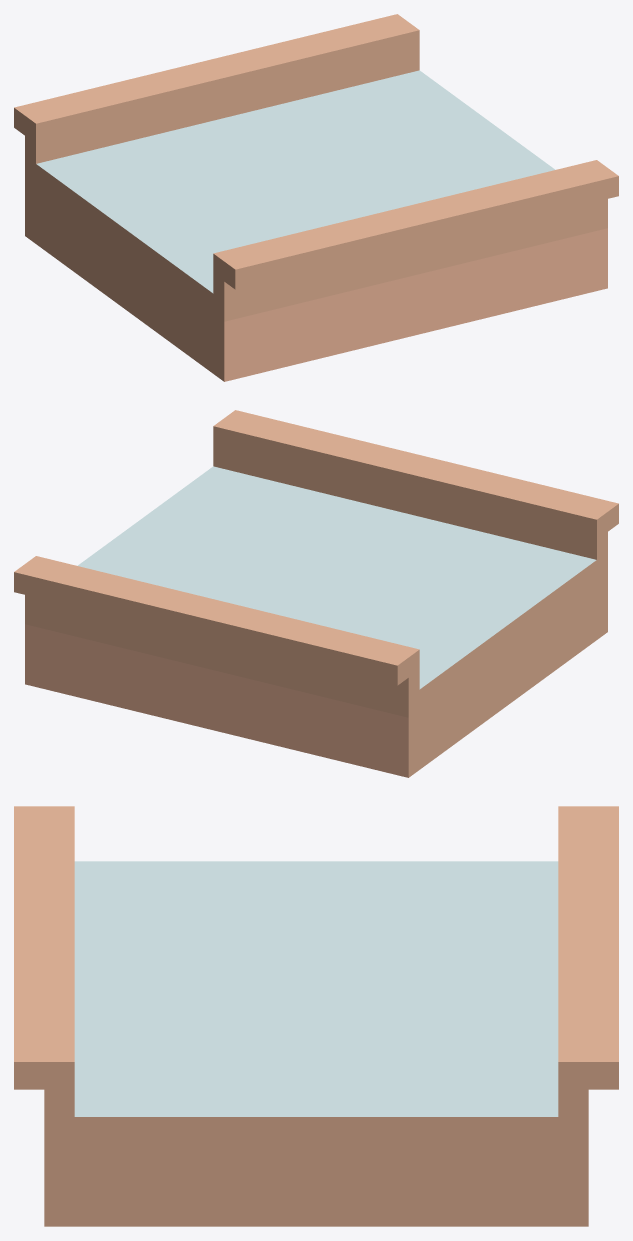
File: bridge_center_wood.glb
3 renders of one model, top to bottom at view 1: azimuth 30°, elevation 25°; view 2: azimuth 150°, elevation 25°; view 3: azimuth 270°, elevation 25°, orthographic. The views are drawn at different scales.
Visible parts, largest first — view 1: bridge_center_wood; view 2: bridge_center_wood; view 3: bridge_center_wood.
Boxes of the visible parts, <box> form: bridge_center_wood: <box>14,14,618,381</box>; bridge_center_wood: <box>14,410,618,777</box>; bridge_center_wood: <box>14,806,618,1226</box>.
Size of the model in its own units: 1 by 0.3 by 1.
